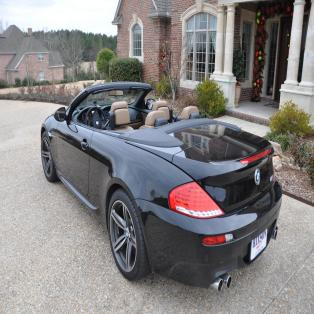Auto: (39, 82, 282, 293)
